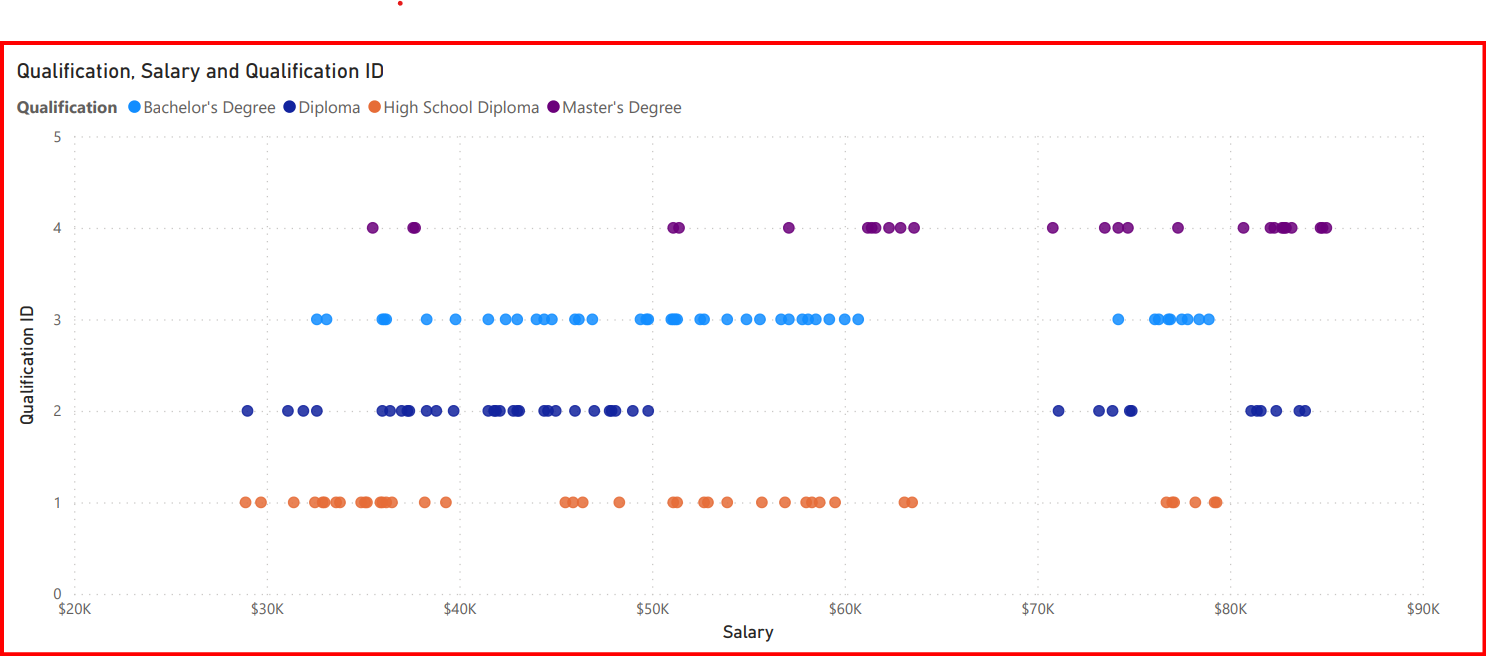

Layout of this report page (visuals, bound fields, positions):
{"tool":"powerbi","page":{"name":"Page 6","canvas":[1280,720],"ordinal":5},"visuals":[{"type":"scatterChart","fields":{"X":["staff.Salary"],"Y":["qual.Qualification ID"],"Series":["qual.Qualification"]},"box":[65.9,172.9,1148.5,472],"z":0},{"type":"textbox","box":[203.1,0,1011.3,78.2],"z":1000}]}

Visuals, with their boxes on the page's 1280x720 design canvas (x1, y1, x2, y2). These are canvas units, not pixel positions in the 1486x656 screenshot, which may show the page scaled, cropped or inside an application window:
scatterChart - staff.Salary x qual.Qualification ID: (x1=66, y1=173, x2=1214, y2=645)
textbox: (x1=203, y1=0, x2=1214, y2=78)
